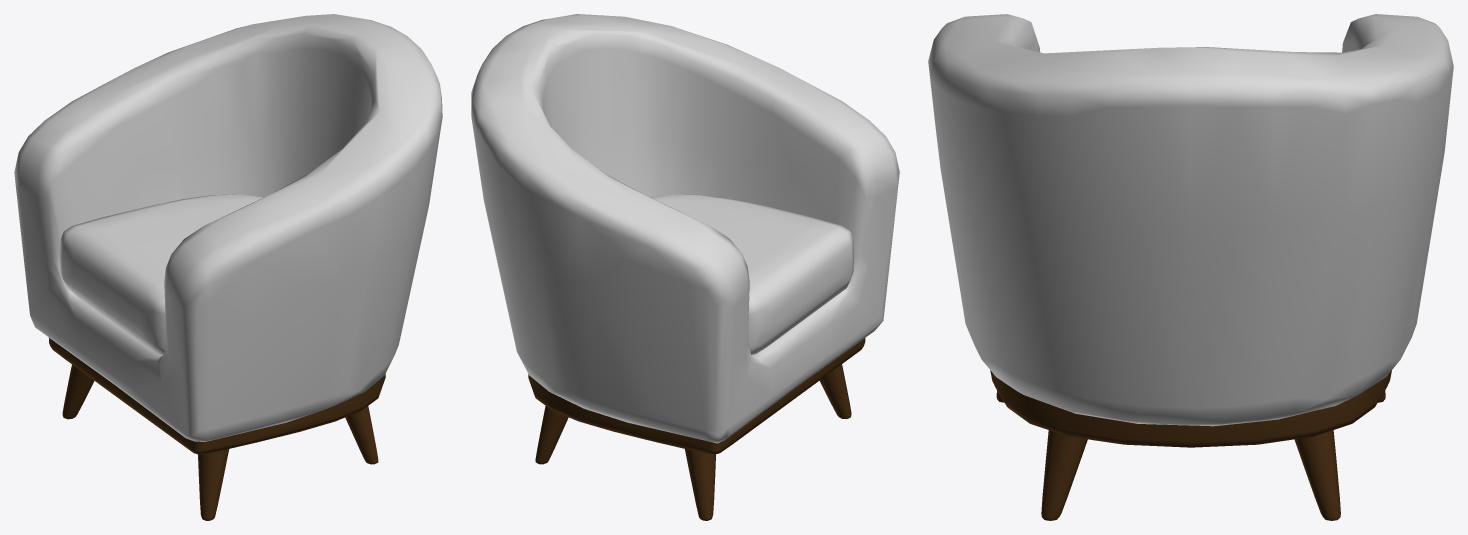
The model's file is armchair_06_leather_white.fbx.
The picture shows the model from 3 angles, left to right: view 1: azimuth 30°, elevation 25°; view 2: azimuth 150°, elevation 25°; view 3: azimuth 270°, elevation 25°; orthographic projection. The views are drawn at different scales.
Visible parts, largest first — view 1: armchair_06_leather_white; view 2: armchair_06_leather_white; view 3: armchair_06_leather_white.
Boxes of the visible parts, x1=… form: armchair_06_leather_white: x1=14, y1=14, x2=442, y2=520; armchair_06_leather_white: x1=471, y1=14, x2=899, y2=520; armchair_06_leather_white: x1=928, y1=14, x2=1453, y2=520.
Size of the model in its own units: 105 by 120 by 114.
1 material, 1 textured.
